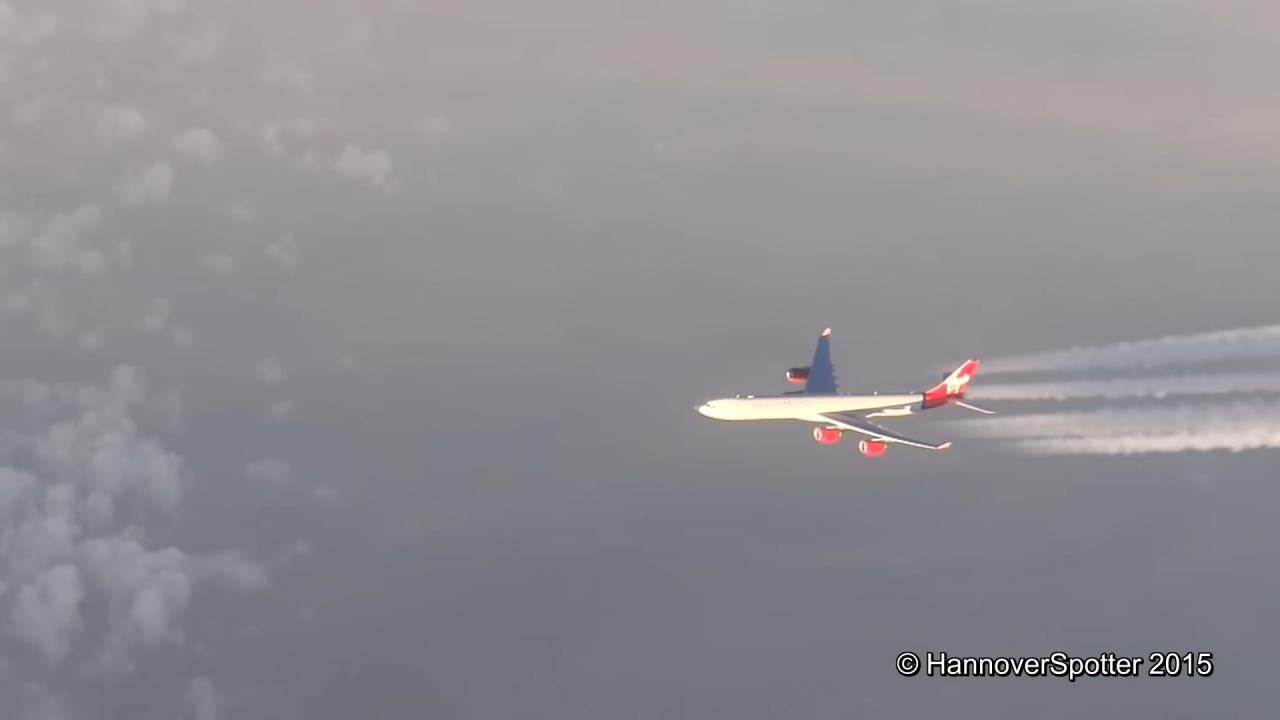Airplane: (686, 321, 1006, 474)
